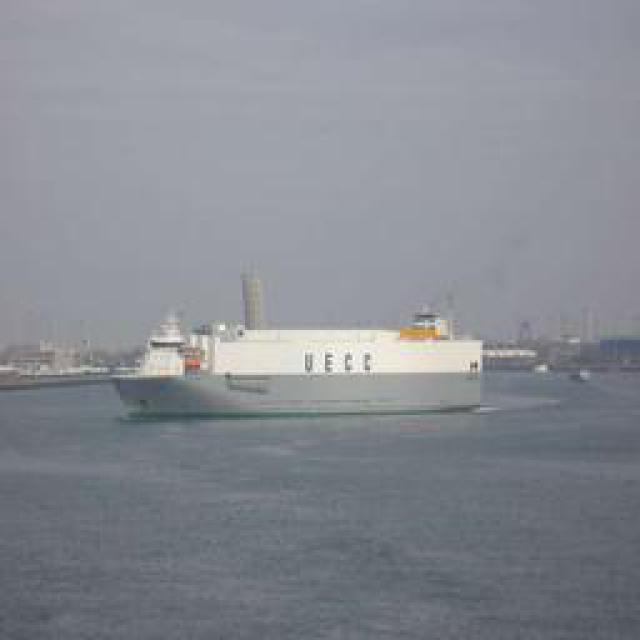Ship: (121, 308, 489, 416)
